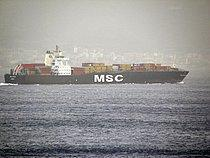Ship: (5, 46, 192, 88)
